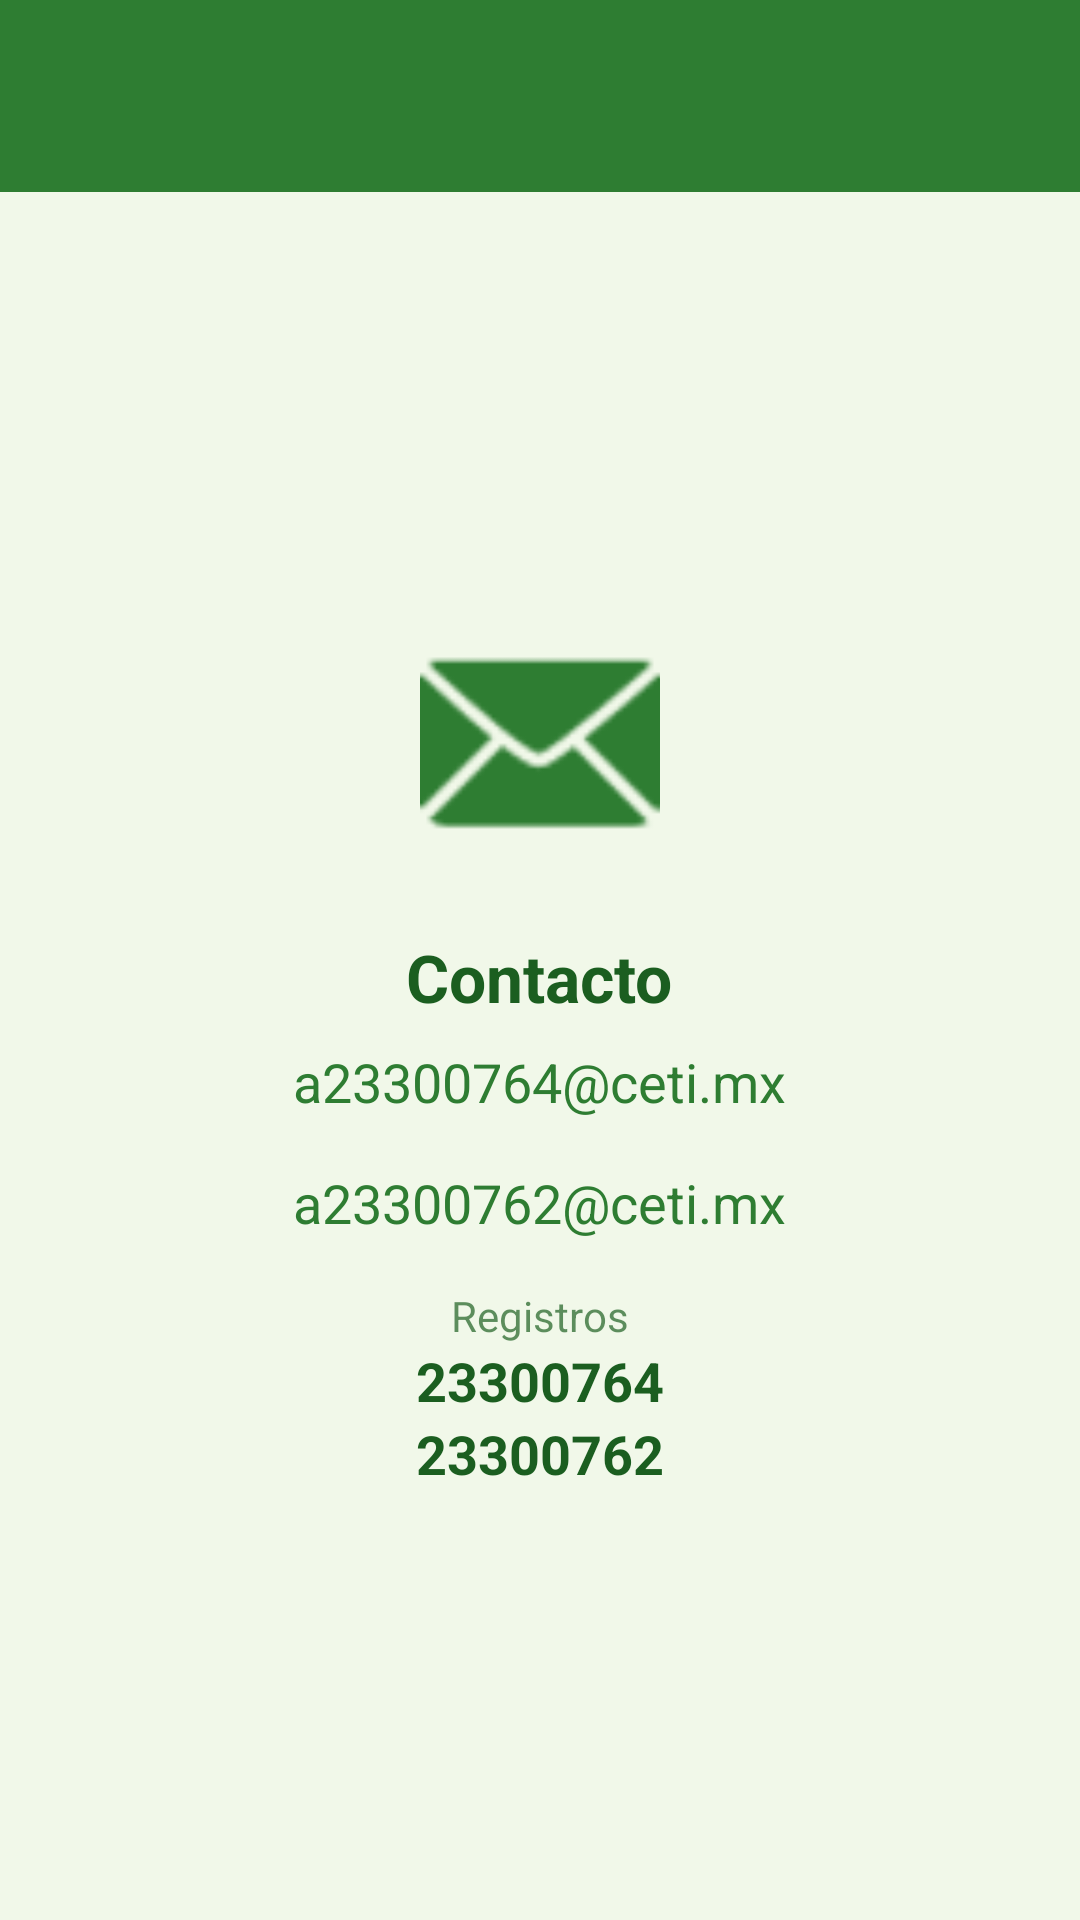

Icon click points for this 1080w x 1920h phone screenshot, format (x=x, y=y):
Icono de soporte: (x=540, y=743)
